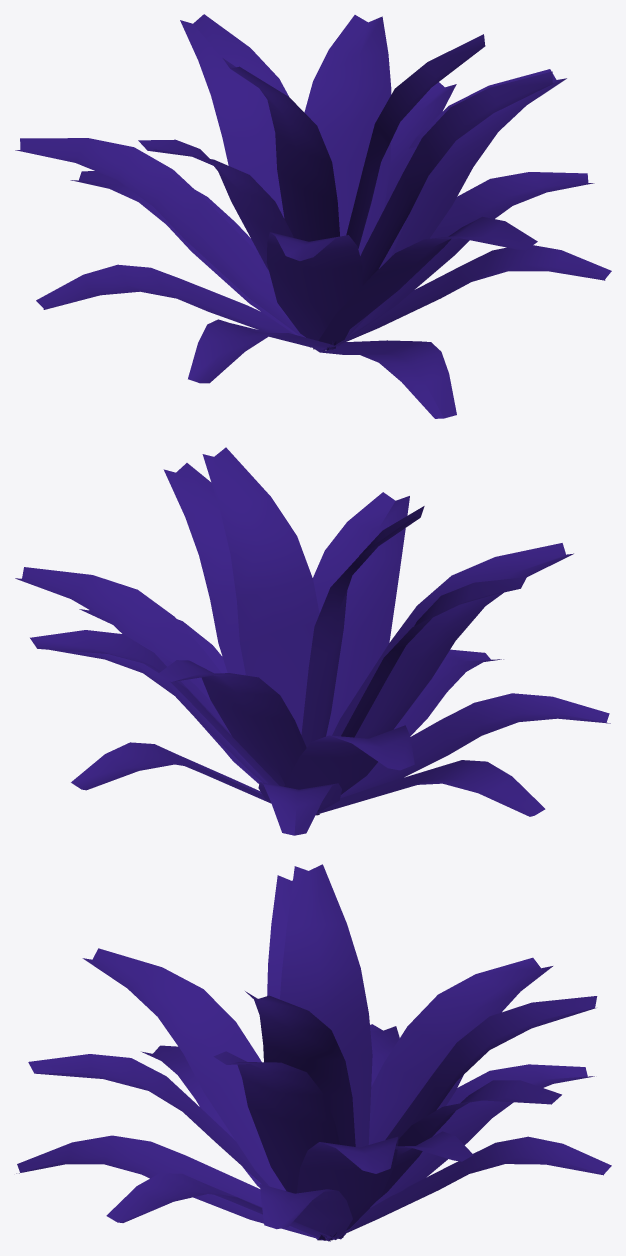
The model's file is cali1.fbx.
The picture shows the model from 3 angles, top to bottom: view 1: azimuth 30°, elevation 25°; view 2: azimuth 150°, elevation 25°; view 3: azimuth 270°, elevation 25°; orthographic projection.
Parts seen in each view (by area): view 1: cali2; view 2: cali2; view 3: cali2.
Boxes of the visible parts, bbox=[...] form: cali2: bbox=[15, 14, 611, 418]; cali2: bbox=[15, 447, 610, 835]; cali2: bbox=[16, 864, 611, 1241].
Bounding box in the file's own units: 2.72 × 1.6 × 2.68.
